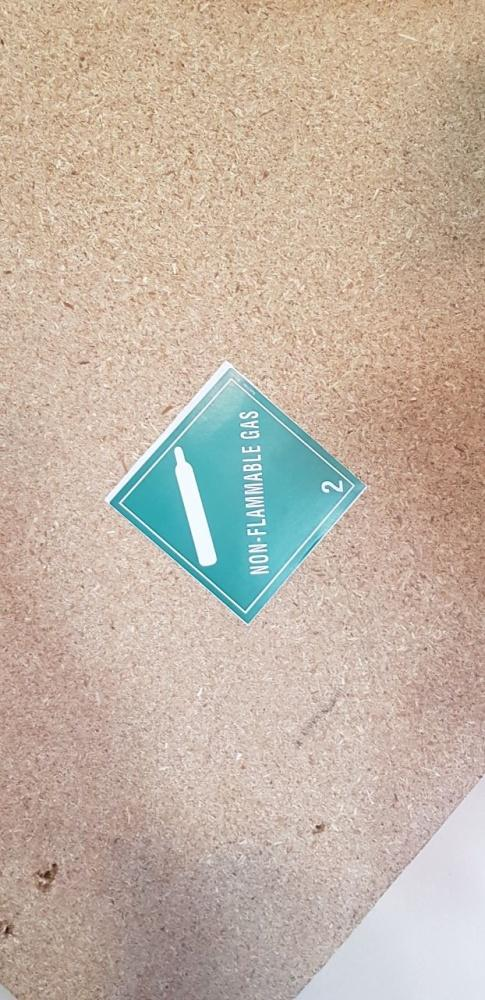non-flammable-gas: (113, 367, 365, 625)
